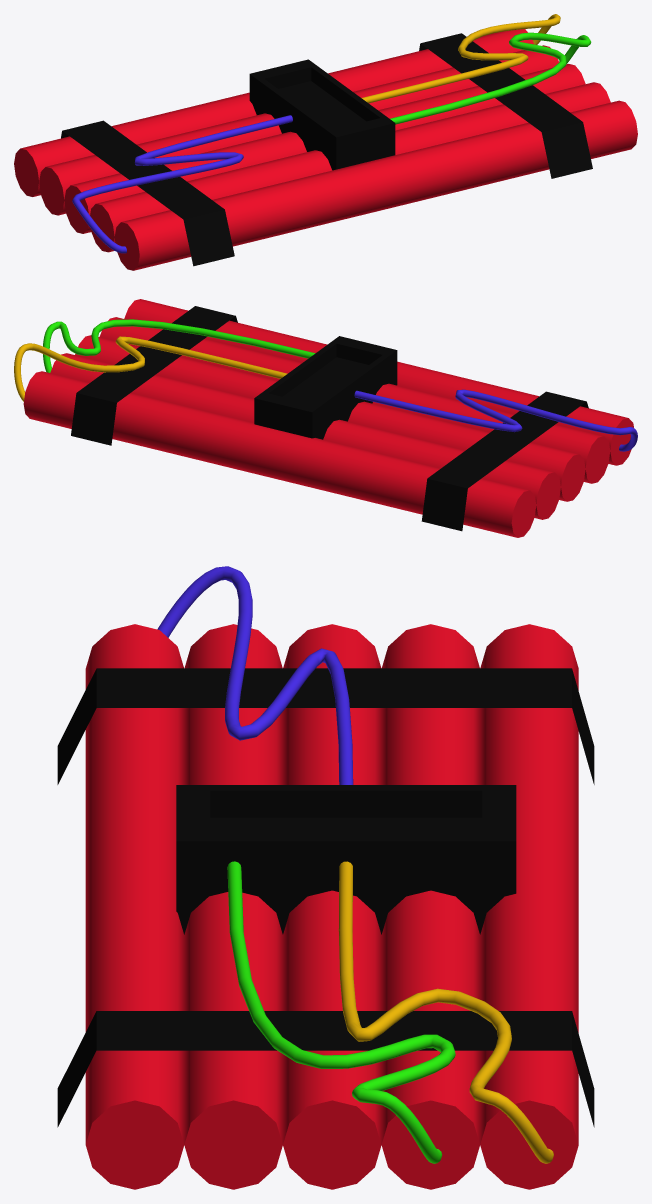
The model's file is Bombe.fbx.
3 views of the same model, one above another, from view 1: azimuth 30°, elevation 25°; view 2: azimuth 150°, elevation 25°; view 3: azimuth 270°, elevation 25° (orthographic). The views are drawn at different scales.
Visible parts, largest first — view 1: Bombe; view 2: Bombe; view 3: Bombe.
Part boxes in pixels (x1=…): Bombe: x1=14, y1=14, x2=637, y2=270; Bombe: x1=14, y1=299, x2=637, y2=537; Bombe: x1=57, y1=566, x2=594, y2=1189.
Size of the model in its own units: 178 by 21.7 by 76.19.
